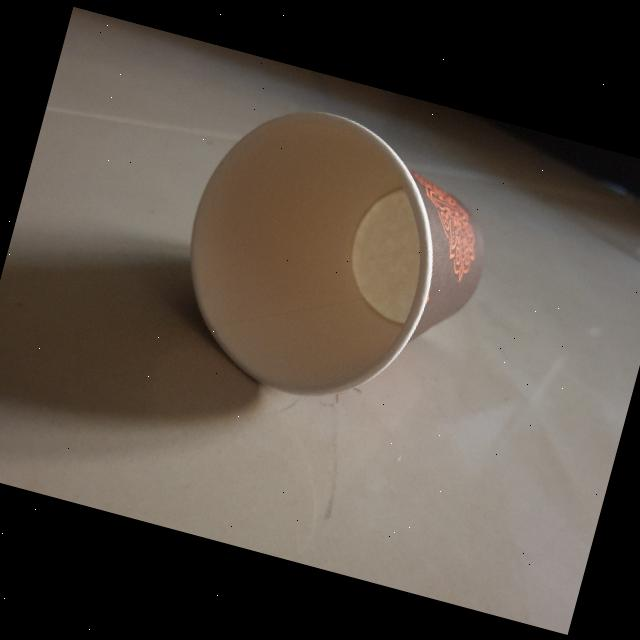trash: (136, 73, 518, 444)
